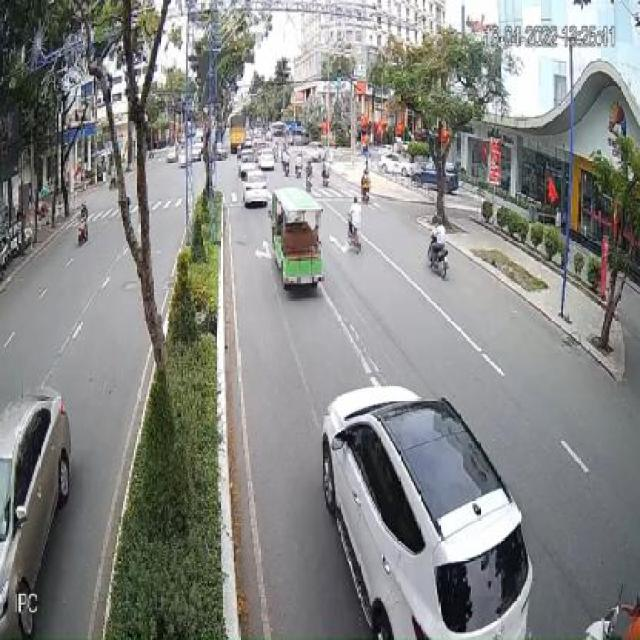car: (308, 377, 535, 640), (5, 387, 70, 626), (242, 172, 268, 209)
motorbike: (429, 224, 451, 280), (348, 213, 363, 254), (76, 200, 88, 247), (358, 170, 372, 203)
